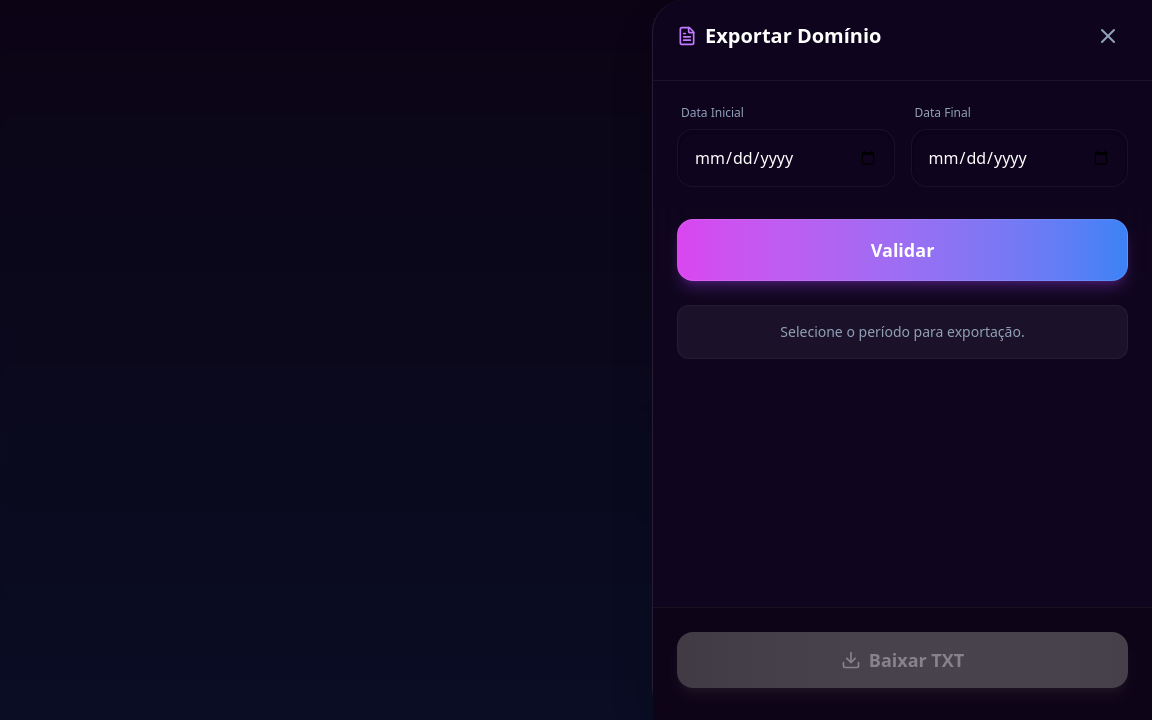
ExportDominioModal & TransactionHistoryPage › Modal Behavior › T08 — Não valida quando startDate > endDate
This screenshot has width=1152, height=720.
In the date field labelled "Data Inicial": (786, 158) 677,129 -> 894,187, type "2026-05-31"
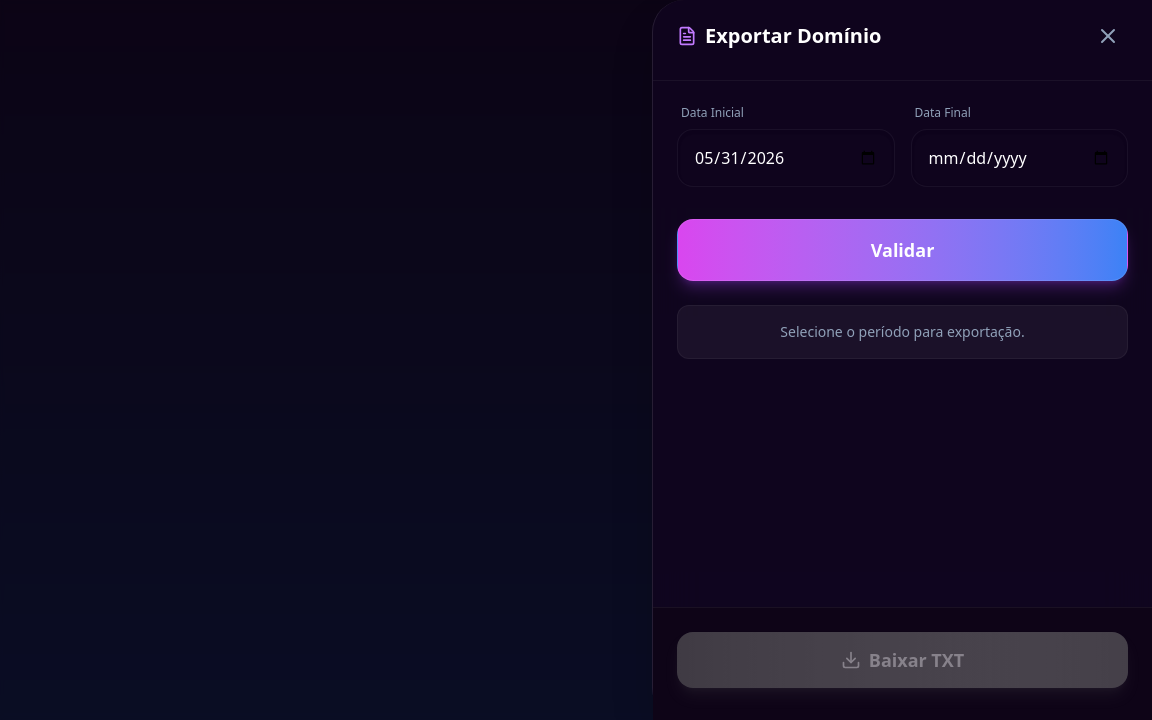
In the date field labelled "Data Final": (1019, 158) 910,129 -> 1128,187, type "2026-05-01"
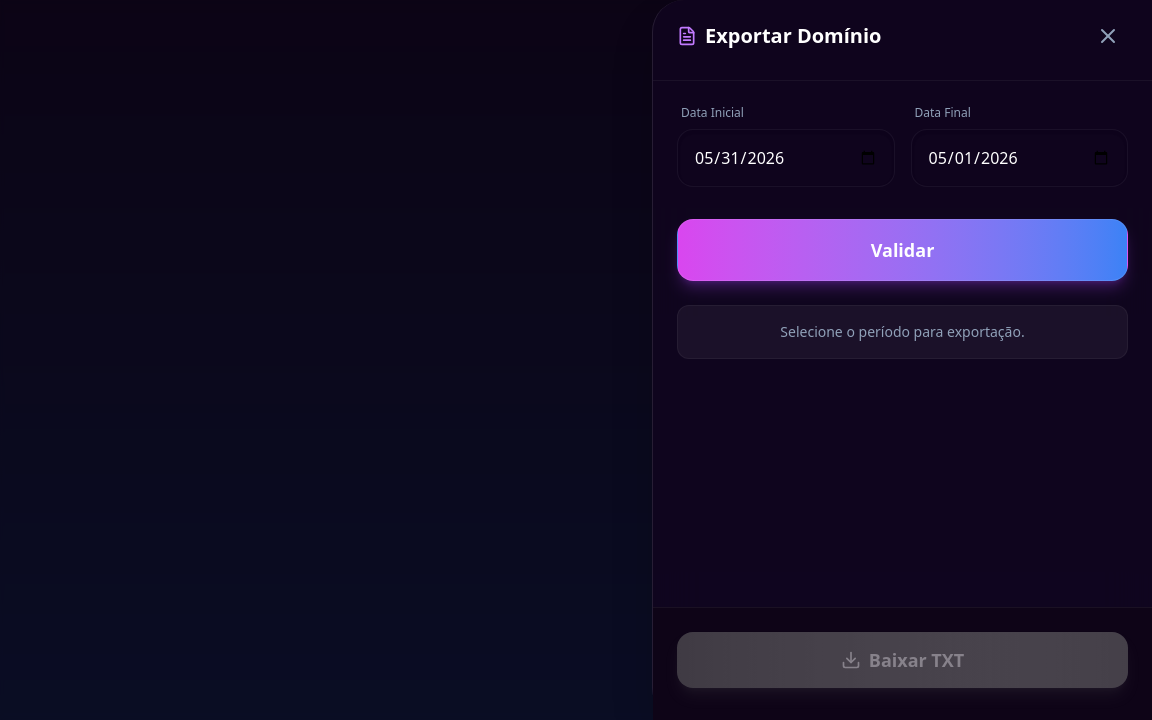
Click the button "Validar": (902, 250) 677,219 -> 1128,281
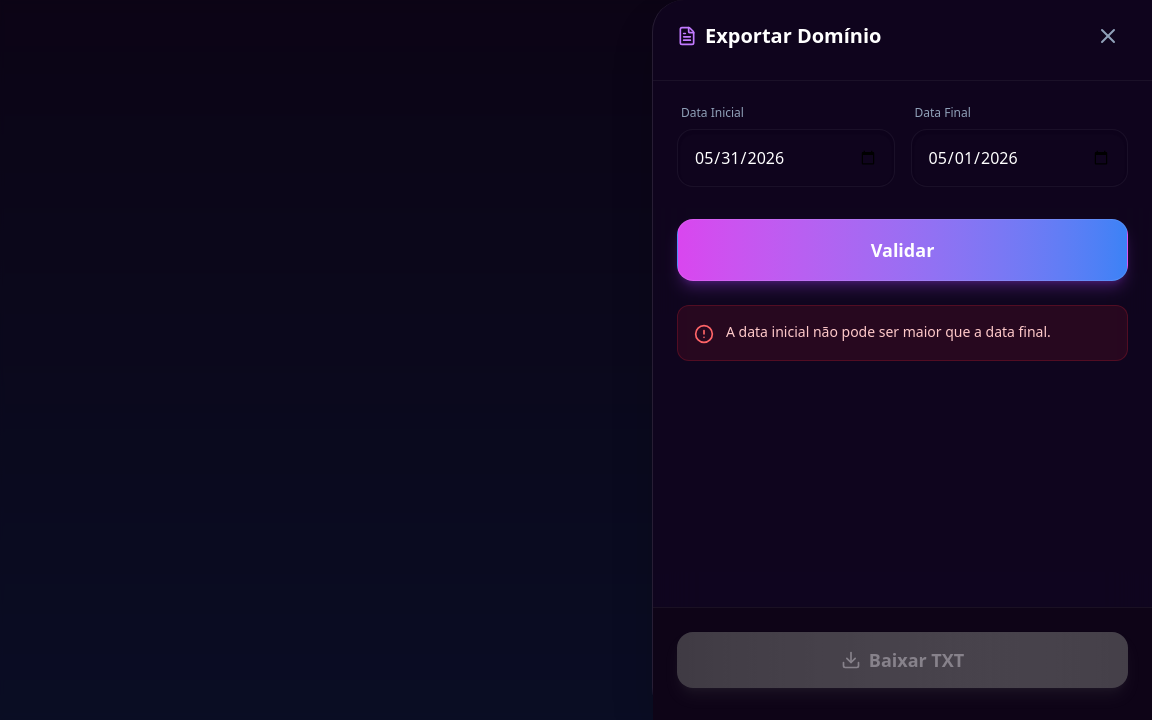
Expected: the text "A data inicial não pode ser maior que a data final." is shown, 726,322 -> 1051,342
